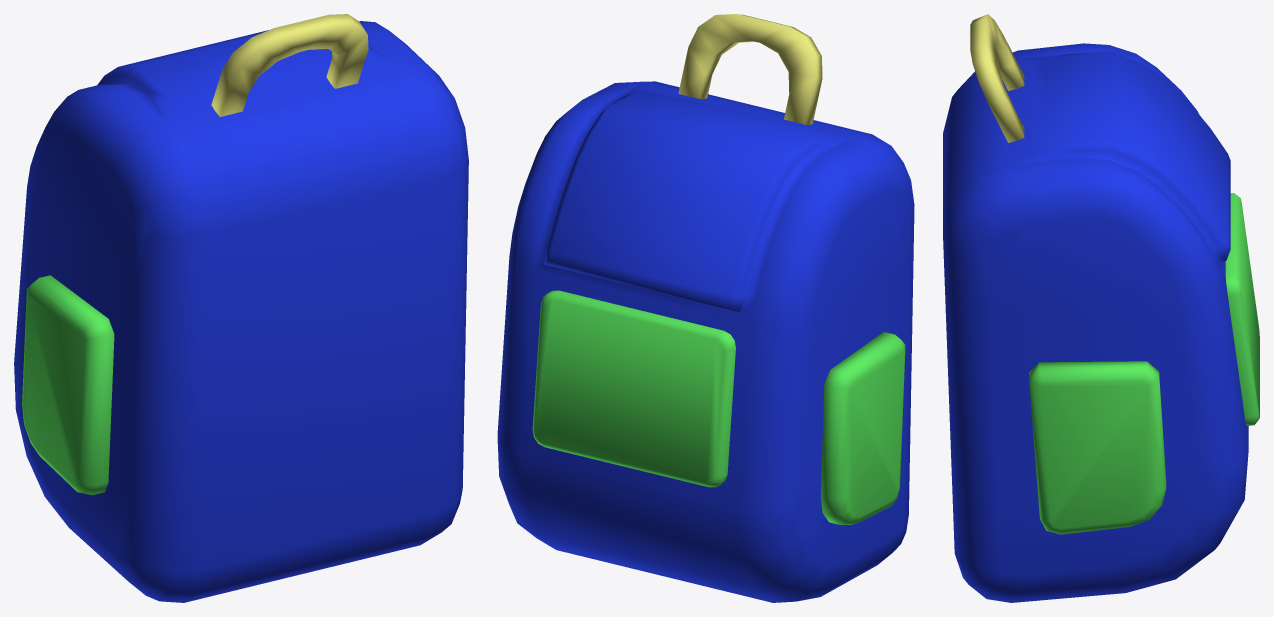
File: Backpack.fbx
3 renders of one model, left to right at view 1: azimuth 30°, elevation 25°; view 2: azimuth 150°, elevation 25°; view 3: azimuth 270°, elevation 25°, orthographic. The views are drawn at different scales.
Parts seen in each view (by area): view 1: Backpack; view 2: Backpack; view 3: Backpack.
Boxes of the visible parts, x1,y1,x2,y2 form: Backpack: [14, 14, 468, 602]; Backpack: [497, 14, 914, 602]; Backpack: [943, 14, 1259, 602].
Bounding box in the file's own units: 2.17 × 3.09 × 1.72.
